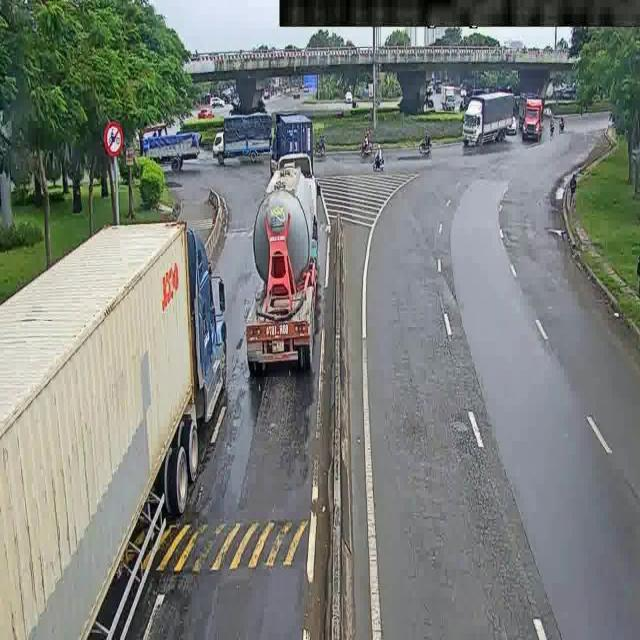motorbike: (373, 141, 396, 182), (545, 115, 573, 138), (357, 132, 377, 155), (414, 127, 434, 150)
truck: (1, 202, 229, 640), (251, 147, 328, 365), (124, 117, 217, 181), (455, 86, 515, 153), (204, 114, 277, 162), (268, 113, 324, 175), (521, 86, 543, 146)
